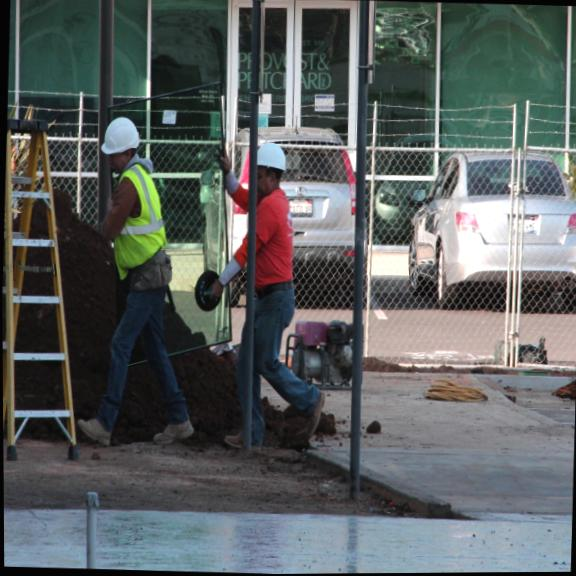safety_vest: (109, 163, 172, 285)
